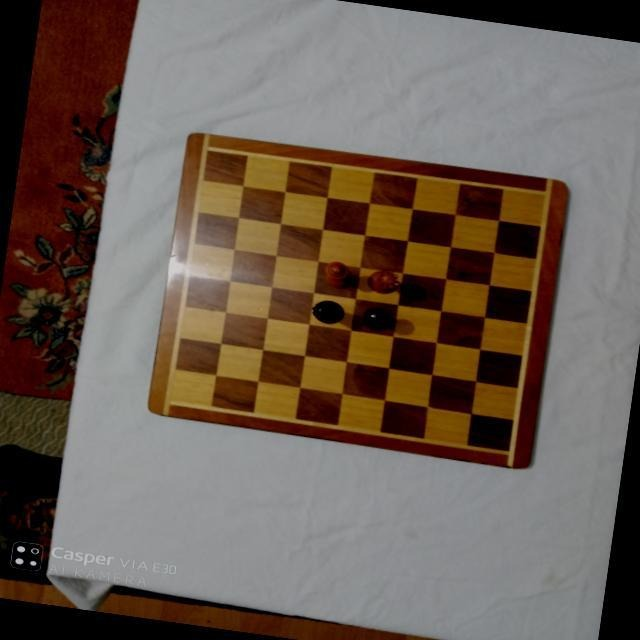black-king: (361, 304, 395, 332)
black-queen: (309, 298, 346, 326)
white-king: (320, 258, 355, 290)
white-queen: (366, 268, 402, 296)
